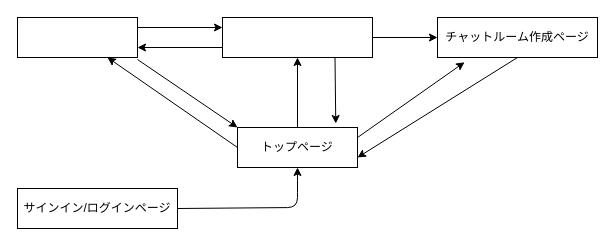
Image size: 615x246. Some labels were removed from this diagram. The centre of each missing label's shape, as x and y in pixels:
チャットルーム/メッセージ送信フォーム: point (297, 37)
ユーザー編集ページ: point (77, 37)
